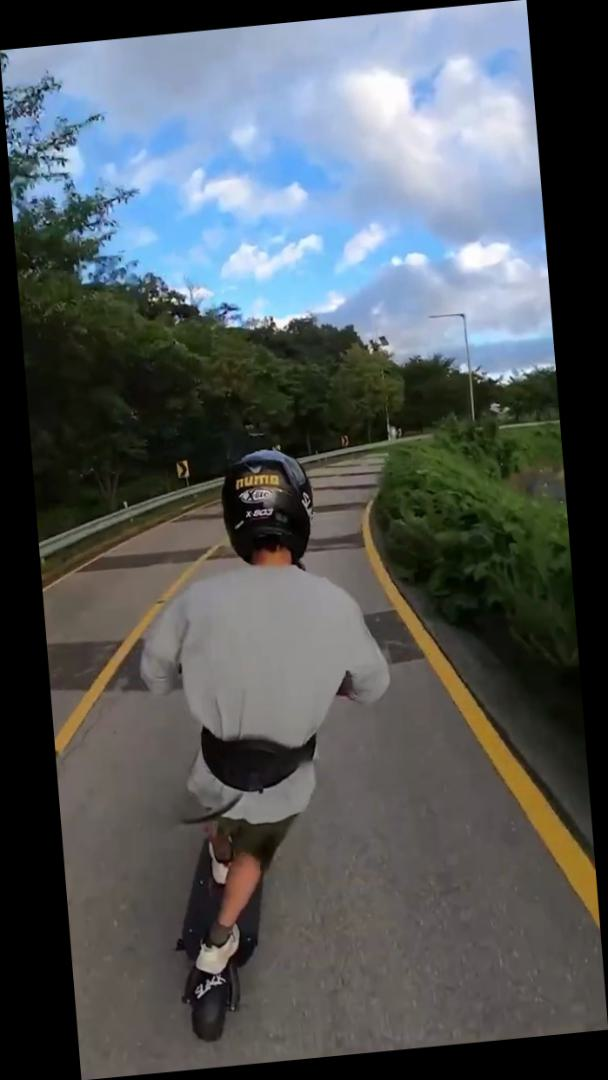helmet: (118, 432, 426, 1050)
